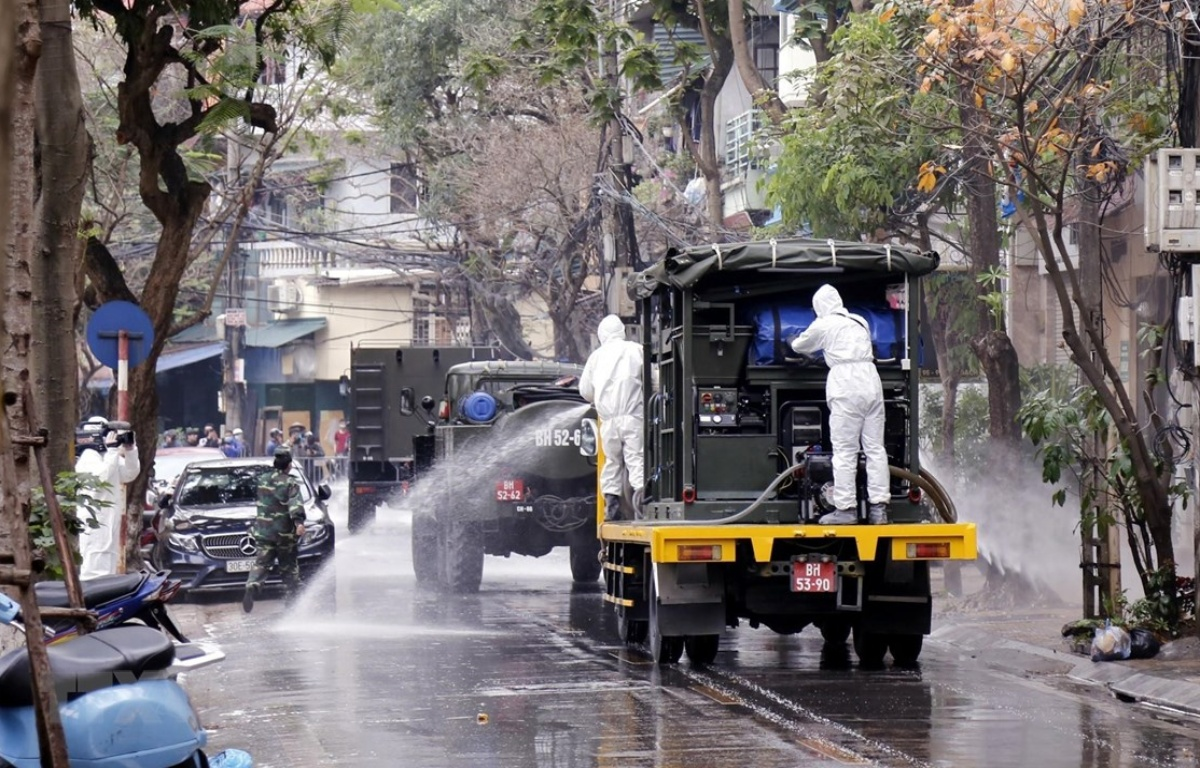plate: (791, 559, 836, 591), (493, 477, 522, 502), (227, 557, 262, 572)
